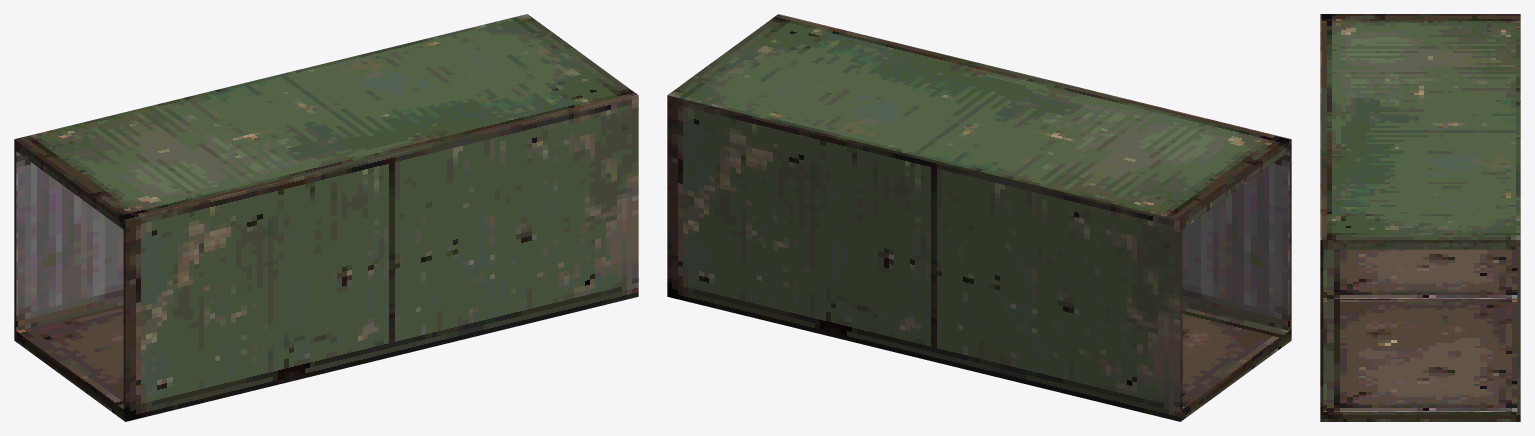
Rendered from cargo_1_open.glb.
3 renders of one model, left to right at view 1: azimuth 30°, elevation 25°; view 2: azimuth 150°, elevation 25°; view 3: azimuth 270°, elevation 25°, orthographic. The views are drawn at different scales.
Parts seen in each view (by area): view 1: Cargo_1_open; view 2: Cargo_1_open; view 3: Cargo_1_open.
Boxes of the visible parts, <box> form: Cargo_1_open: <box>14,14,638,421</box>; Cargo_1_open: <box>667,14,1291,421</box>; Cargo_1_open: <box>1320,14,1520,421</box>.
Bounding box in the file's own units: 8 × 3 × 3.
Materials: 1 (1 with a texture image).
